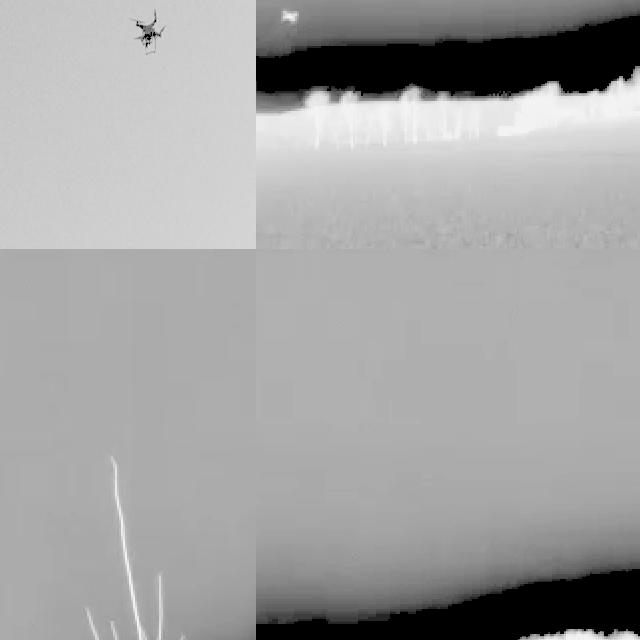1: (271, 4, 309, 36)
drone: (129, 5, 168, 58)
